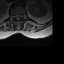CCS_normal: (17, 12, 19, 22)
LFS_normal: (21, 13, 23, 19)
LLS_normal: (18, 13, 21, 19)
RFS_stenosis: (13, 13, 15, 19)
RLS_normal: (15, 13, 17, 20)
